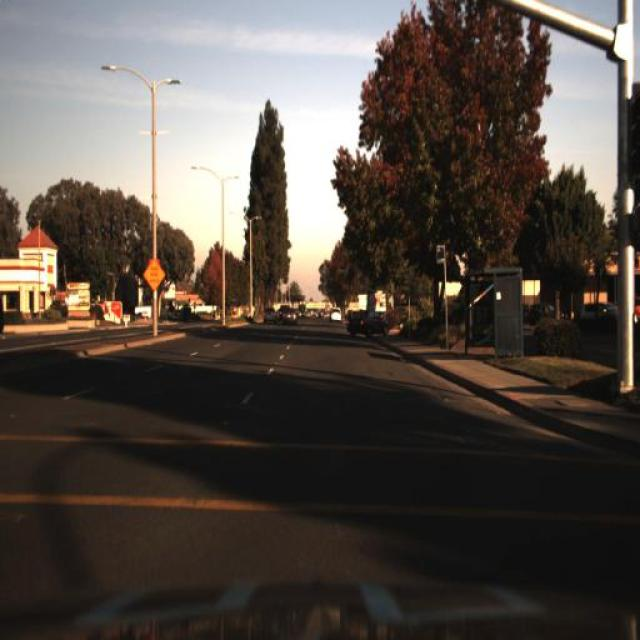car: (345, 303, 390, 336), (258, 305, 278, 330), (282, 303, 298, 331)
